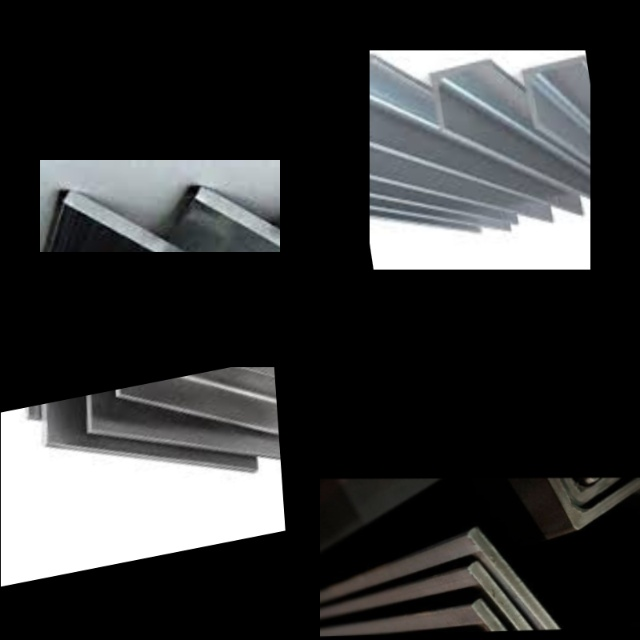Angle: (477, 533, 640, 632), (475, 567, 640, 632), (74, 199, 202, 252), (202, 195, 280, 252), (525, 58, 589, 124), (432, 61, 496, 125), (481, 607, 640, 632), (551, 480, 640, 519), (43, 393, 100, 442), (87, 386, 139, 429), (622, 570, 640, 628), (370, 56, 380, 122)
